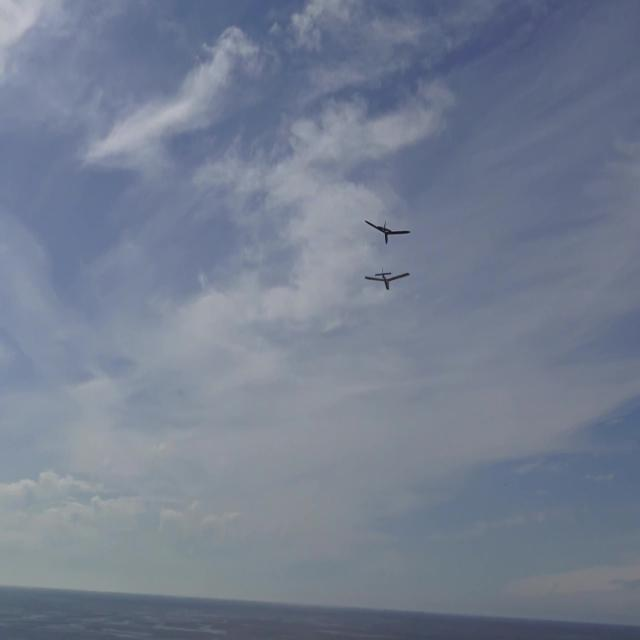iha: (364, 219, 412, 246), (365, 266, 410, 290)
